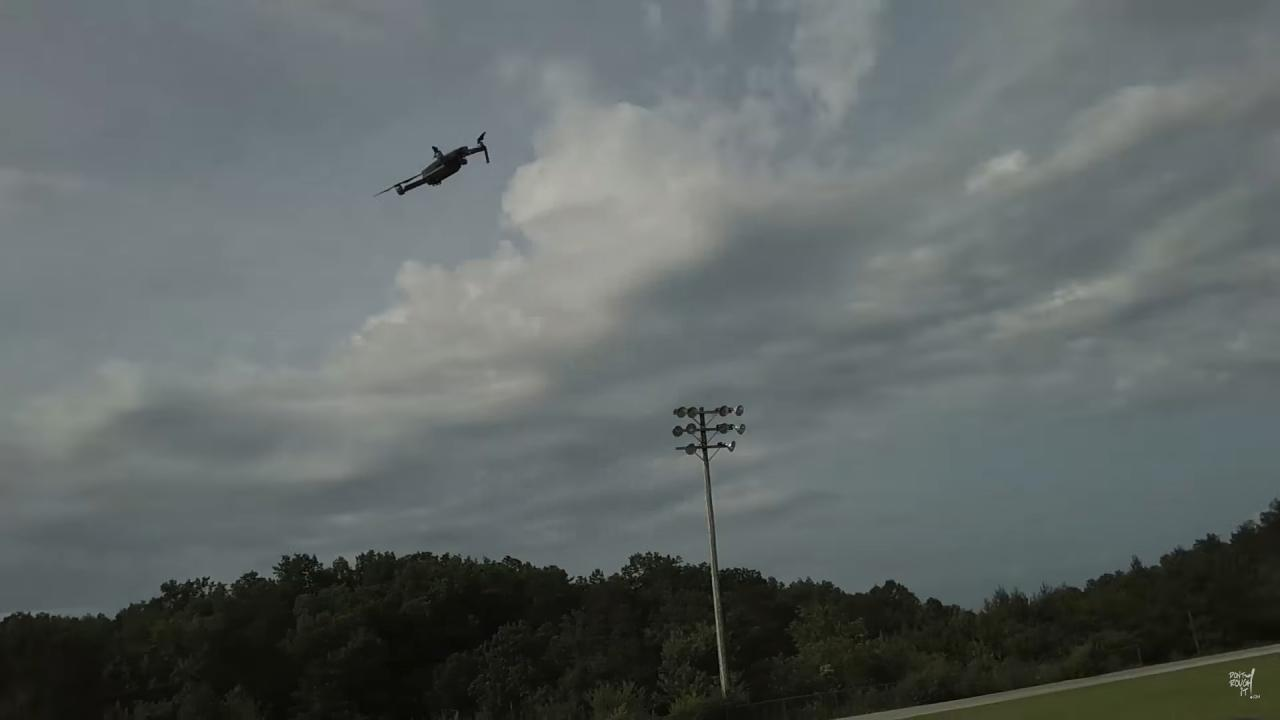Drone: (364, 121, 506, 214)
